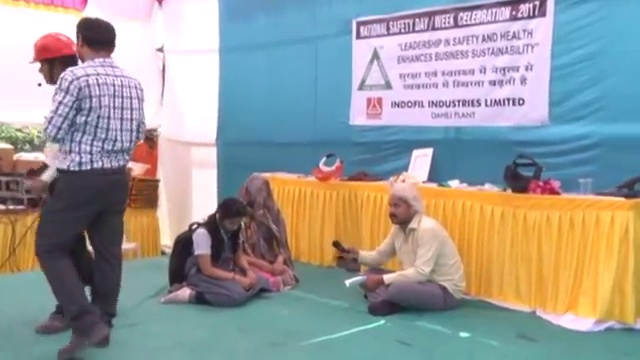helmet: (24, 32, 79, 62)
helmet_off: (64, 16, 117, 70), (379, 186, 425, 234), (240, 179, 278, 227), (212, 197, 249, 239)
helmet_on: (24, 32, 79, 92)
person: (37, 16, 151, 357), (334, 180, 468, 316), (166, 196, 270, 311), (233, 176, 297, 292)
